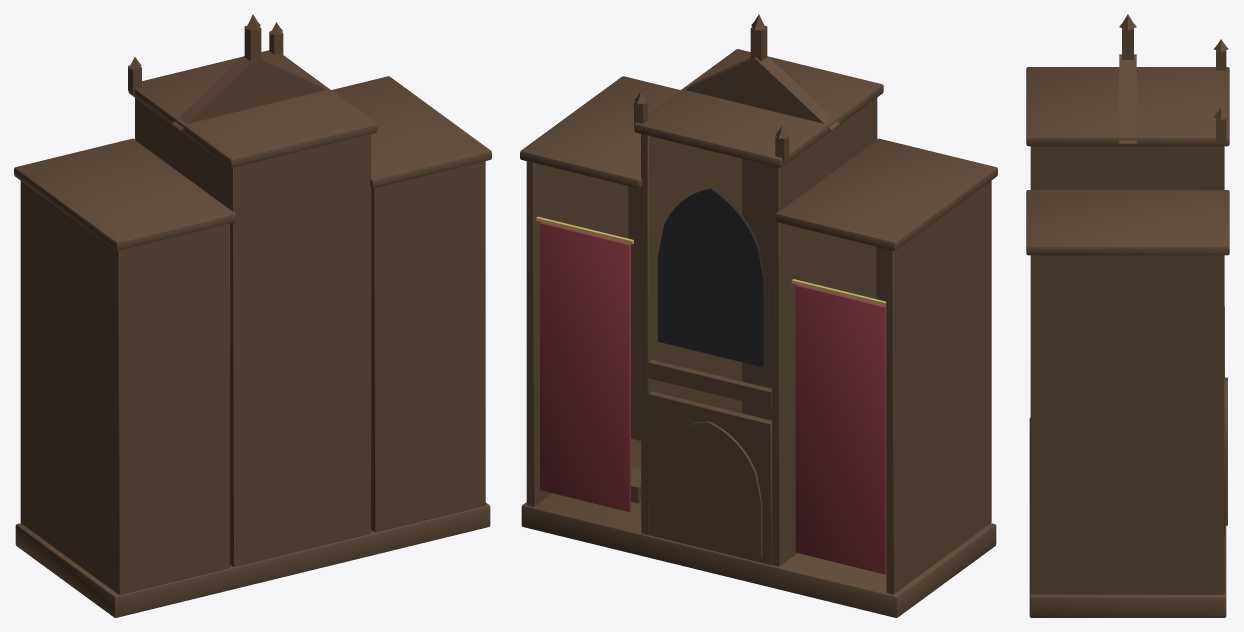
Rendered from chi_confessionale.fbx.
3 renders of one model, left to right at view 1: azimuth 30°, elevation 25°; view 2: azimuth 150°, elevation 25°; view 3: azimuth 270°, elevation 25°, orthographic.
Parts seen in each view (by area): view 1: chi_confessionale_legno; view 2: chi_confessionale_legno, chi_confessionale_tessuto, chi_confessionale_scuro, chi_confessionale_ottone; view 3: chi_confessionale_legno.
Boxes of the visible parts, box(x1,y1,x2,y2) form: chi_confessionale_legno: box(14, 14, 491, 617); chi_confessionale_legno: box(520, 14, 997, 617); chi_confessionale_tessuto: box(540, 222, 886, 574); chi_confessionale_scuro: box(658, 188, 765, 367); chi_confessionale_ottone: box(536, 216, 886, 306); chi_confessionale_legno: box(1026, 14, 1229, 617).
Size of the model in its own units: 2.5 by 3.32 by 1.19.
